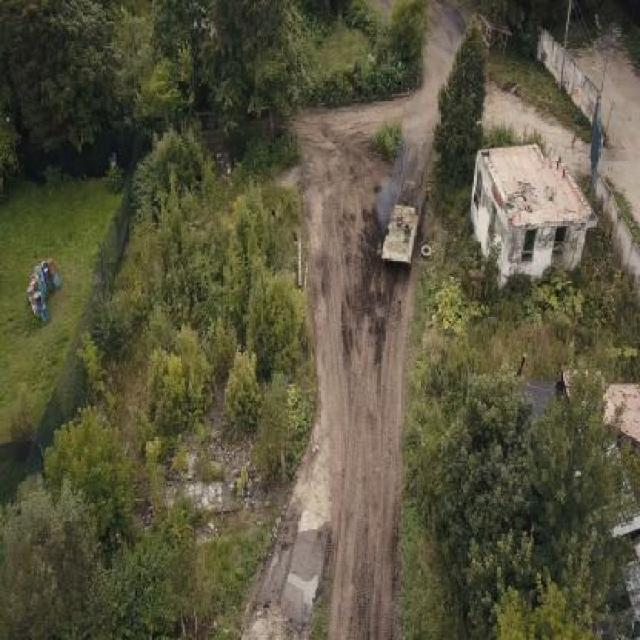Tanks: (381, 188, 419, 266)
